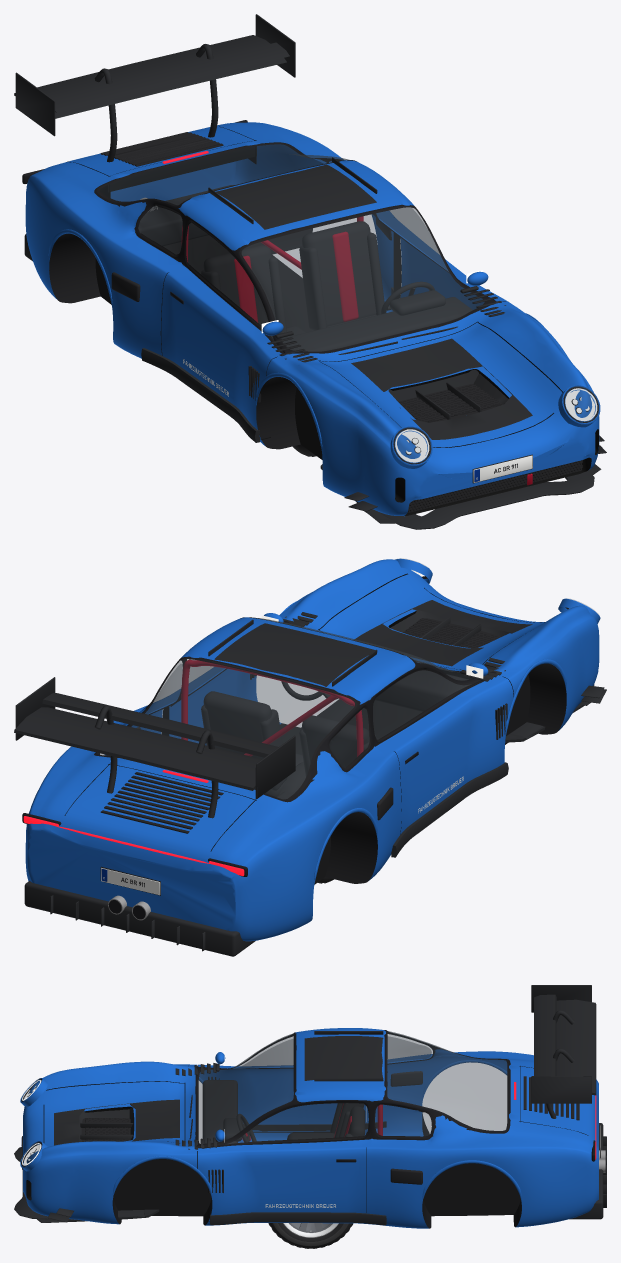
3 renders of one model, top to bottom at view 1: azimuth 30°, elevation 25°; view 2: azimuth 150°, elevation 25°; view 3: azimuth 270°, elevation 25°, orthographic. The views are drawn at different scales.
Parts seen in each view (by area): view 1: body; view 2: body; view 3: body, wheel.
Boxes of the visible parts, x1,y1,x2,y2 form: body: (14, 14, 606, 529); body: (14, 558, 606, 956); body: (14, 985, 606, 1228); wheel: (268, 1223, 353, 1248).
Bounding box in the file's own units: 1.91 × 1.87 × 4.71.
